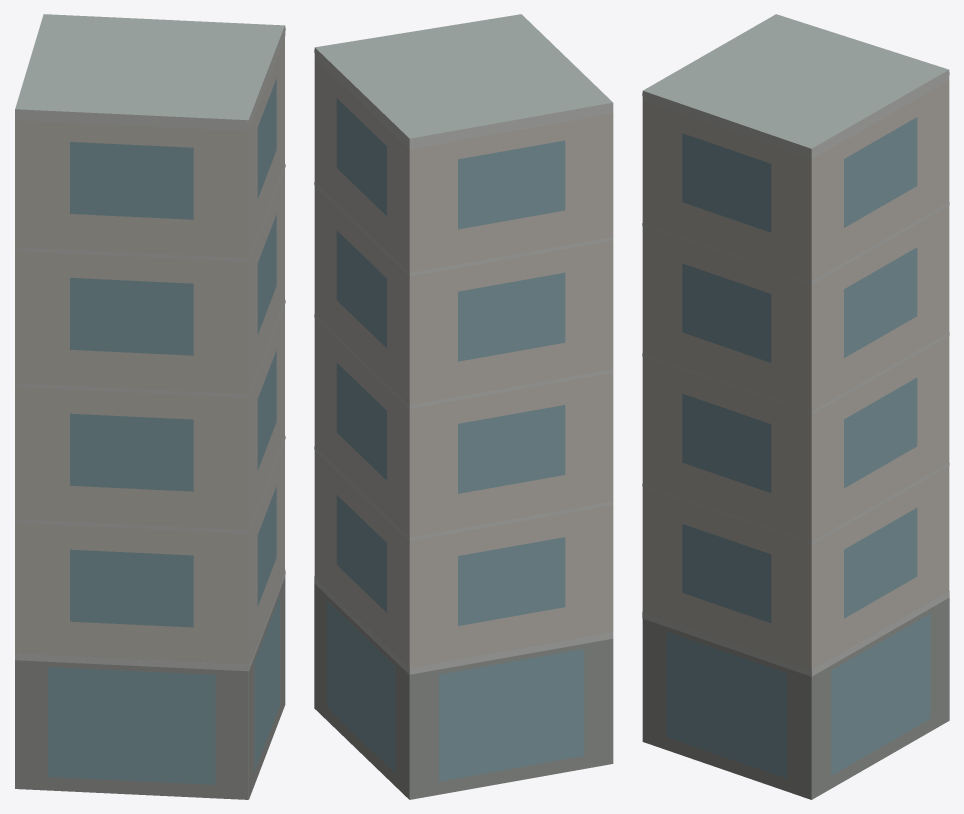
Rendered from survey-upis-32708584.glb.
3 renders of one model, left to right at view 1: azimuth 30°, elevation 25°; view 2: azimuth 150°, elevation 25°; view 3: azimuth 270°, elevation 25°, orthographic. The views are drawn at different scales.
Visible parts, largest first — view 1: survey-upis-32708584.tmp; view 2: survey-upis-32708584.tmp; view 3: survey-upis-32708584.tmp.
Part boxes in pixels (x1,y1,x2,y2): survey-upis-32708584.tmp: (15, 14, 285, 799); survey-upis-32708584.tmp: (314, 14, 613, 799); survey-upis-32708584.tmp: (642, 14, 949, 799).
Bounding box in the file's own units: 6.79 × 15.25 × 6.53.
